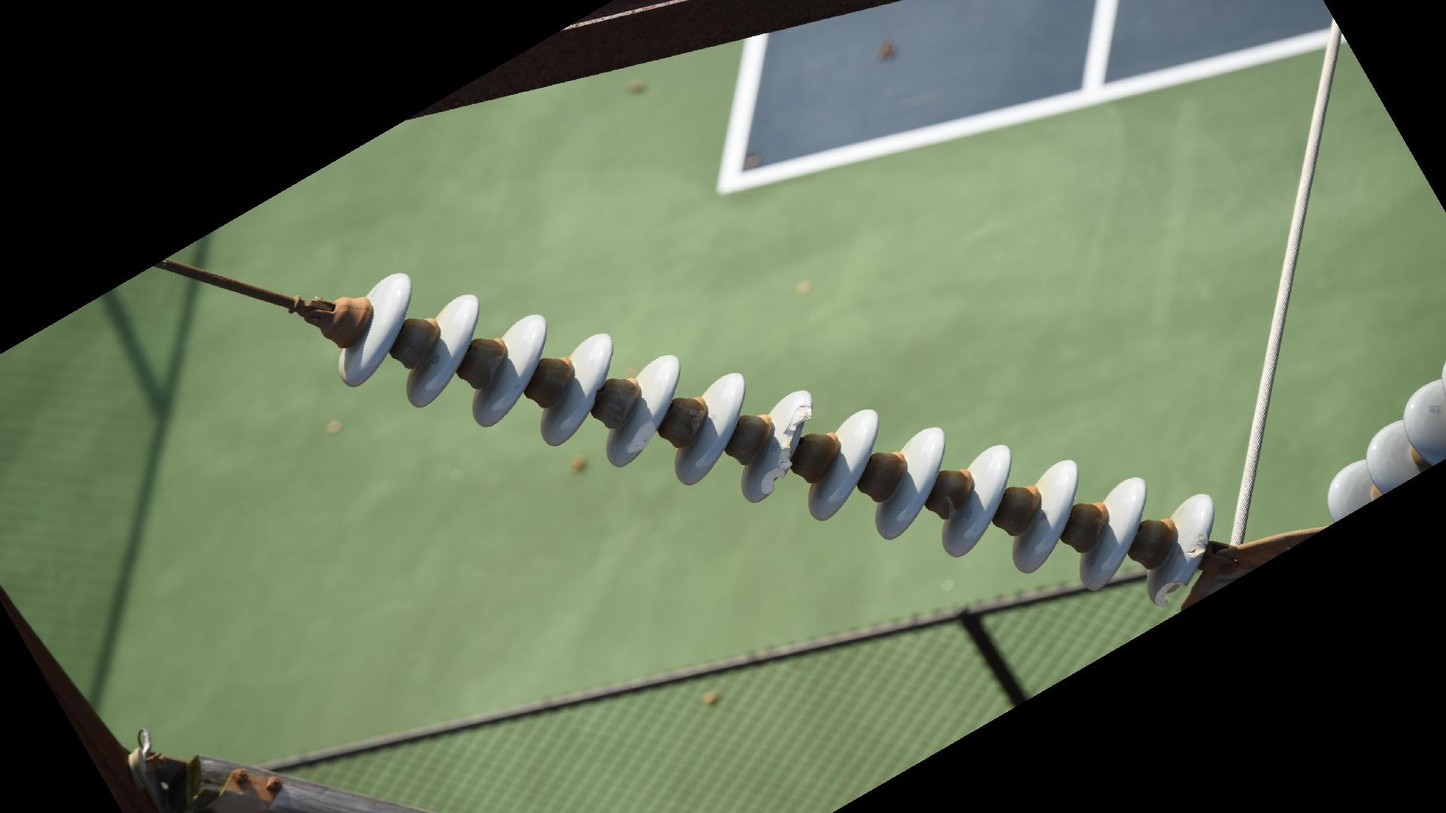insulator: (331, 265, 1219, 613), (1319, 352, 1446, 529)
insulator_breakage: (752, 397, 816, 500), (620, 416, 660, 460), (1147, 574, 1191, 609)
